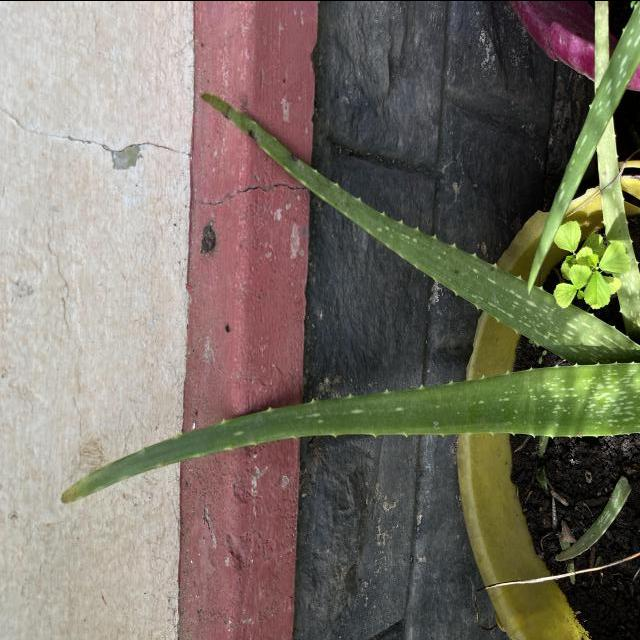Aloe vera: (53, 356, 640, 509)
